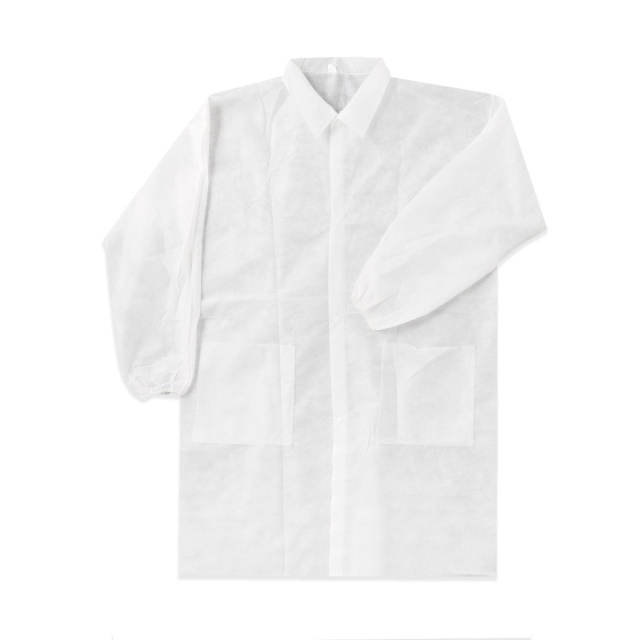Coat: (88, 50, 555, 578)
